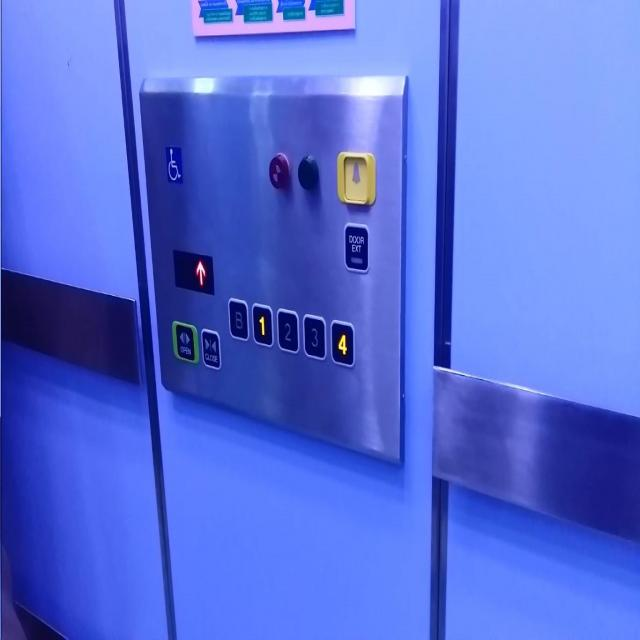1: (251, 299, 273, 346)
2: (276, 308, 299, 352)
3: (302, 312, 326, 358)
4: (329, 318, 355, 367)
B: (228, 297, 249, 341)
CH: (165, 145, 182, 183)
alarm: (336, 151, 376, 204)
close: (200, 327, 222, 371)
empty: (298, 154, 318, 190)
led: (172, 249, 215, 297)
open: (172, 319, 198, 363)
text: (344, 222, 369, 270)
unknown: (268, 152, 290, 190)
